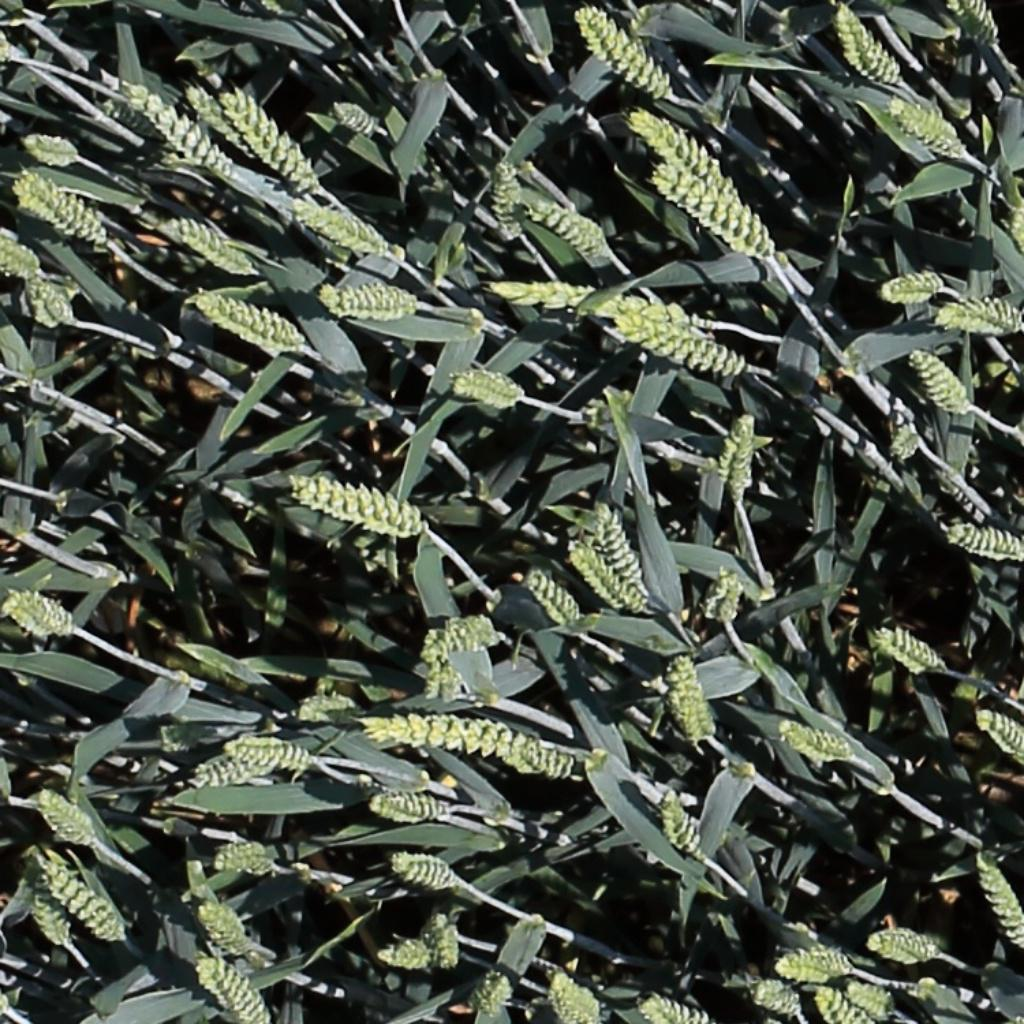0-0: (345, 707, 539, 766), (653, 162, 774, 252), (235, 89, 334, 194), (629, 106, 740, 193), (576, 5, 675, 99), (139, 88, 230, 177), (617, 315, 749, 374), (289, 477, 423, 533), (36, 858, 125, 942), (834, 1, 906, 91), (15, 172, 106, 240), (611, 284, 706, 346), (569, 537, 647, 612), (195, 292, 301, 346), (972, 849, 1024, 957), (293, 196, 390, 253), (184, 80, 255, 154), (590, 504, 643, 601), (161, 214, 251, 271), (907, 344, 974, 419), (888, 94, 968, 155), (394, 616, 506, 659), (196, 902, 266, 968), (658, 790, 715, 871), (322, 279, 418, 327), (225, 720, 317, 770), (671, 653, 719, 748), (531, 196, 608, 253), (713, 408, 768, 487), (196, 963, 267, 1024), (520, 567, 584, 630), (14, 587, 91, 638), (448, 363, 524, 411), (938, 294, 1019, 339), (23, 266, 80, 329), (36, 790, 96, 847), (25, 884, 73, 954), (368, 781, 451, 821), (780, 720, 857, 763), (873, 630, 948, 674), (512, 735, 577, 784), (878, 265, 948, 309), (548, 968, 602, 1024), (491, 281, 595, 310), (776, 944, 856, 980), (701, 563, 745, 628), (99, 95, 163, 139), (495, 150, 524, 243), (946, 525, 1024, 559), (390, 857, 464, 892), (207, 837, 277, 873), (955, 0, 1003, 50), (974, 711, 1024, 759), (417, 652, 466, 700), (472, 968, 516, 1021), (20, 133, 88, 167), (196, 760, 278, 787), (0, 215, 38, 273), (891, 395, 922, 466), (815, 983, 868, 1024), (376, 936, 436, 972), (749, 981, 808, 1017), (640, 995, 712, 1024), (869, 935, 942, 962), (296, 689, 360, 719), (331, 98, 380, 135), (438, 912, 464, 978), (849, 984, 898, 1017), (0, 46, 13, 60)
